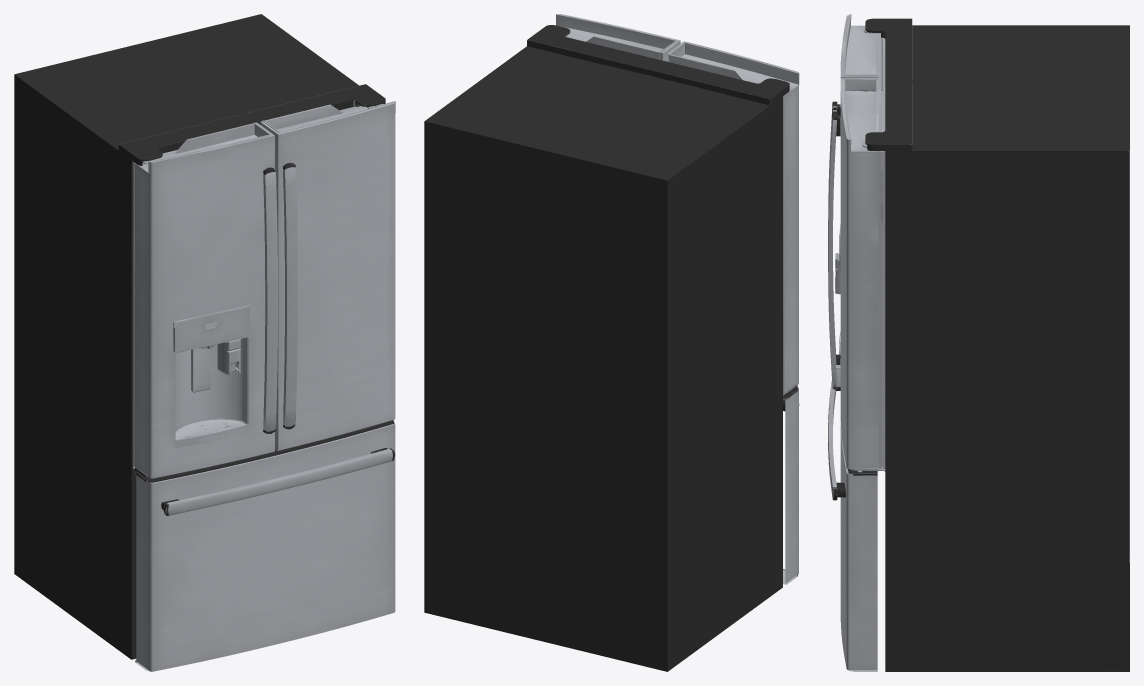
File: Fridge01.glb
3 renders of one model, left to right at view 1: azimuth 30°, elevation 25°; view 2: azimuth 150°, elevation 25°; view 3: azimuth 270°, elevation 25°, orthographic. The views are drawn at different scales.
Visible parts, largest first — view 1: Refrigerator; view 2: Refrigerator; view 3: Refrigerator.
Part boxes in pixels (x1=…): Refrigerator: x1=14, y1=14, x2=395, y2=671; Refrigerator: x1=424, y1=14, x2=799, y2=671; Refrigerator: x1=828, y1=14, x2=1129, y2=671.
Bounding box in the file's own units: 90.81 × 179 × 92.08.
1 material, 1 textured.
